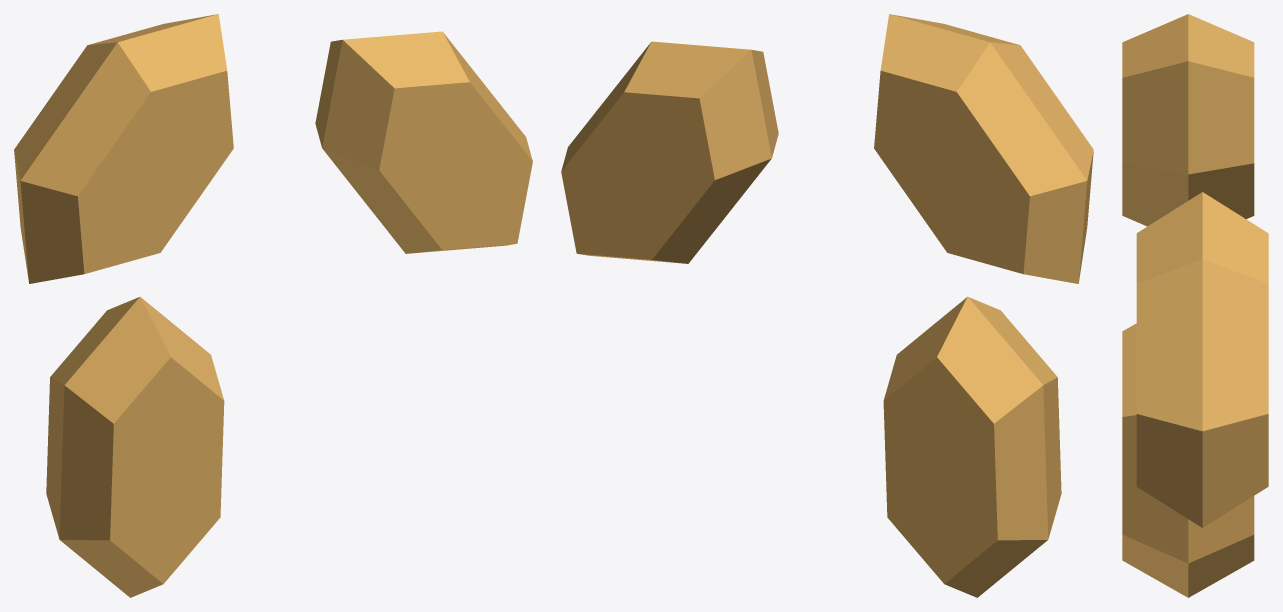
Rendered from seed.fbx.
The picture shows the model from 3 angles, left to right: view 1: azimuth 30°, elevation 25°; view 2: azimuth 150°, elevation 25°; view 3: azimuth 270°, elevation 25°; orthographic projection. The views are drawn at different scales.
Parts seen in each view (by area): view 1: Planted_Soil.003, Planted_Soil.002, Planted_Soil.001; view 2: Planted_Soil.003, Planted_Soil.002, Planted_Soil.001; view 3: Planted_Soil.001, Planted_Soil.003, Planted_Soil.002.
Part boxes in pixels (box(x1,y1,x2,y2)): Planted_Soil.003: box(14, 14, 233, 283); Planted_Soil.002: box(46, 297, 224, 597); Planted_Soil.001: box(315, 31, 532, 253); Planted_Soil.003: box(874, 14, 1093, 283); Planted_Soil.002: box(883, 296, 1061, 597); Planted_Soil.001: box(561, 41, 778, 263); Planted_Soil.001: box(1136, 192, 1268, 527); Planted_Soil.003: box(1122, 14, 1254, 226); Planted_Soil.002: box(1122, 323, 1254, 597).
Bounding box in the file's own units: 29.4 × 123 × 129.
